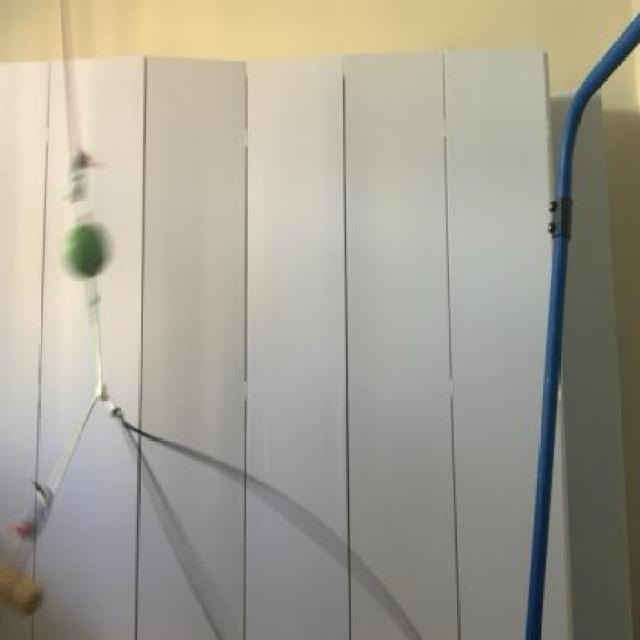baseball: (56, 209, 115, 285)
